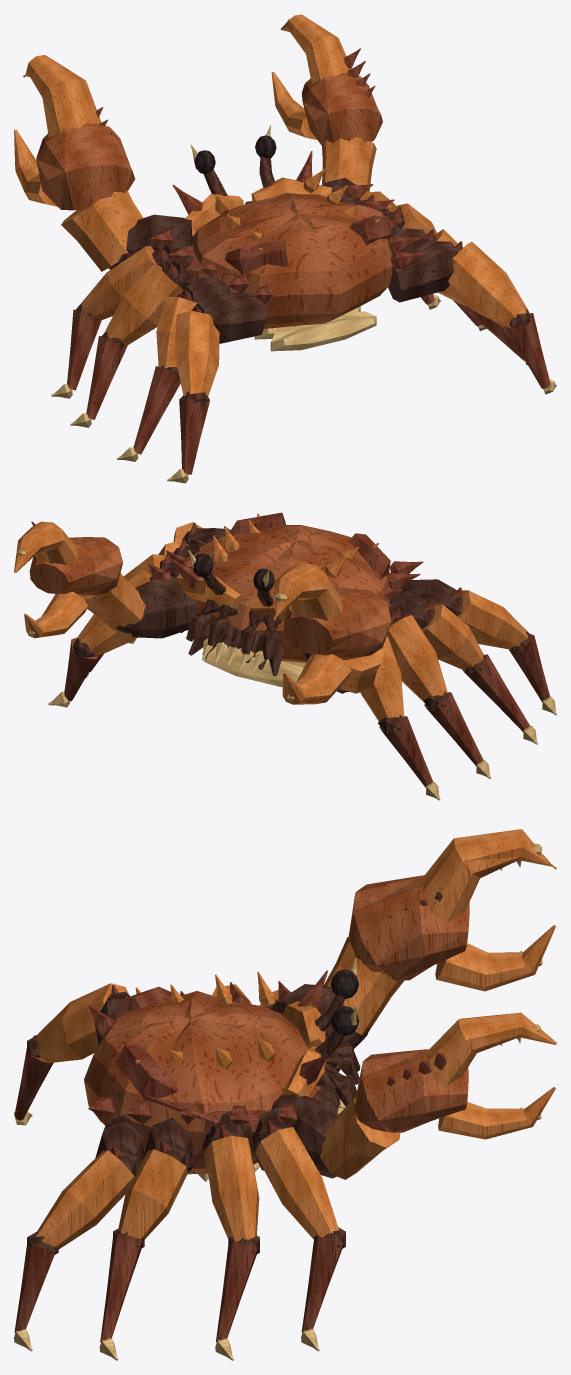
Rendered from clavascarnio-v01-blockout.glb.
3 views of the same model, one above another, from view 1: azimuth 30°, elevation 25°; view 2: azimuth 150°, elevation 25°; view 3: azimuth 270°, elevation 25° (orthographic). The views are drawn at different scales.
Parts seen in each view (by area): view 1: cephalothorax_carapace_primary, chela_L_palm, chela_R_palm, walk_R4_femur, cheliped_L_carpus, chela_L_fixed_finger, walk_L4_femur, walk_L2_femur, walk_R4_coxa, walk_L4_coxa, chela_R_fixed_finger, walk_L1_femur (+18 smaller); view 2: cephalothorax_carapace_primary, chela_L_palm, chela_R_palm, walk_L2_femur, chela_L_fixed_finger, cheliped_R_merus, walk_L4_femur, chela_L_opposing_finger, walk_L3_femur, chela_R_fixed_finger, cheliped_R_carpus, walk_L1_femur (+24 smaller); view 3: cephalothorax_carapace_primary, chela_L_palm, chela_R_palm, chela_L_fixed_finger, walk_R1_femur, walk_R4_femur, walk_R2_femur, chela_R_fixed_finger, walk_R3_femur, chela_L_opposing_finger, walk_L4_femur, cheliped_R_carpus (+17 smaller).
Part boxes in pixels (x1,y1,x2,y2): cephalothorax_carapace_primary: [192, 194, 392, 328]; chela_L_palm: [36, 123, 135, 210]; chela_R_palm: [301, 73, 382, 147]; walk_R4_femur: [448, 241, 528, 326]; cheliped_L_carpus: [61, 190, 143, 271]; chela_L_fixed_finger: [23, 55, 101, 137]; walk_L4_femur: [174, 310, 219, 396]; walk_L2_femur: [104, 264, 183, 345]; walk_R4_coxa: [388, 240, 458, 302]; walk_L4_coxa: [192, 292, 266, 343]; chela_R_fixed_finger: [280, 14, 351, 83]; walk_L1_femur: [80, 246, 156, 320]; cephalothorax_carapace_primary: [195, 525, 390, 662]; chela_L_palm: [283, 587, 391, 660]; chela_R_palm: [29, 537, 122, 595]; walk_L2_femur: [387, 615, 447, 701]; chela_L_fixed_finger: [273, 562, 341, 620]; cheliped_R_merus: [130, 578, 197, 638]; walk_L4_femur: [456, 590, 527, 649]; chela_L_opposing_finger: [282, 654, 351, 704]; walk_L3_femur: [422, 604, 483, 670]; chela_R_fixed_finger: [14, 521, 77, 572]; cheliped_R_carpus: [78, 573, 145, 631]; walk_L1_femur: [360, 635, 404, 721]; cephalothorax_carapace_primary: [84, 991, 321, 1174]; chela_L_palm: [347, 875, 469, 980]; chela_R_palm: [353, 1049, 468, 1132]; chela_L_fixed_finger: [419, 829, 556, 921]; walk_R1_femur: [254, 1127, 338, 1239]; walk_R4_femur: [36, 1150, 135, 1249]; walk_R2_femur: [205, 1135, 259, 1241]; chela_R_fixed_finger: [424, 1012, 556, 1086]; walk_R3_femur: [118, 1149, 188, 1239]; chela_L_opposing_finger: [435, 925, 555, 991]; walk_L4_femur: [36, 983, 129, 1063]; cheliped_R_carpus: [320, 1095, 400, 1179].
Bounding box in the file's own units: 4.98 × 3 × 4.48.
1 material, 1 textured.
